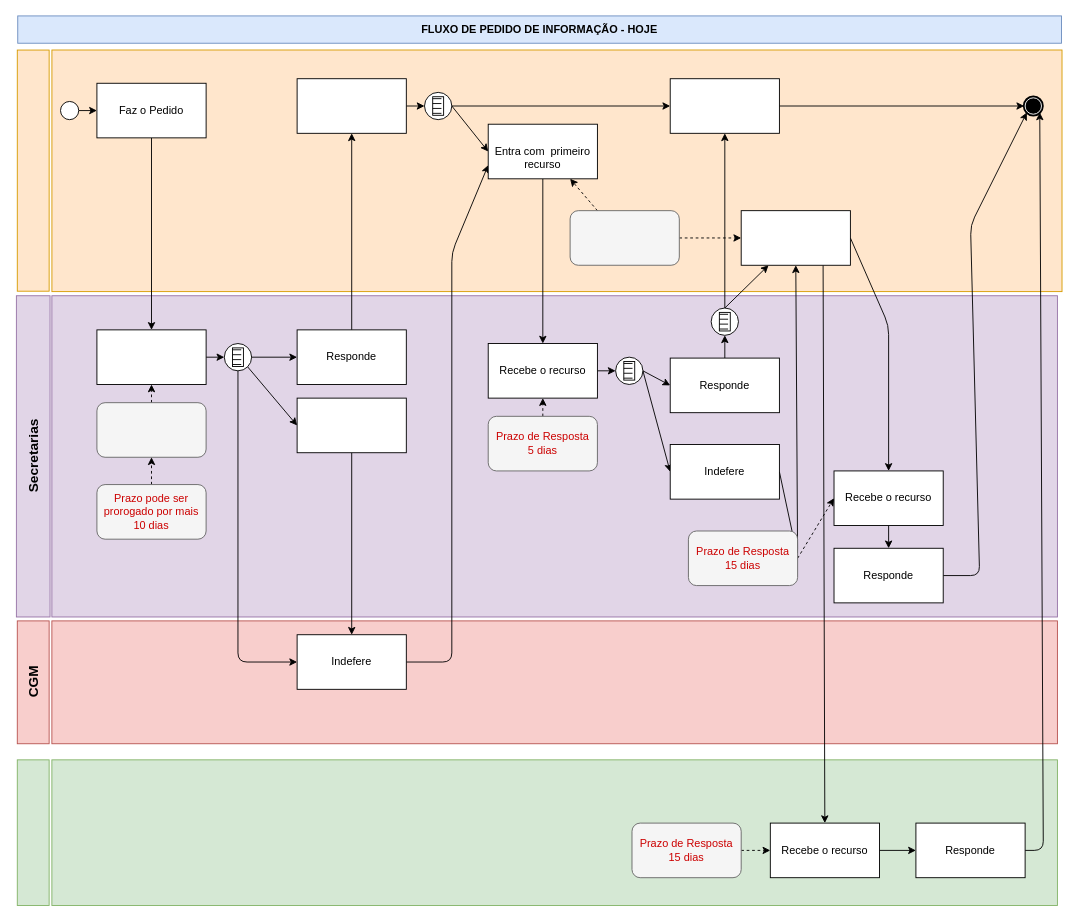
This 1078x922 diagram has some shape labels left out. Here are the shapes that lost their labels. From the top down, the centre of each, then its label:
At point 351,105: "Recebe a resposta".
At point 724,105: "Conformado com a resposta".
At point 32,170: "Usuário".
At point 624,237: "Prazo para entrar com recurso 10 dias".
At point 795,237: "Entra com segundo".
At point 151,356: "Recebe o Pedido".
At point 151,429: "Prazo de Resposta 20 dias".
At point 351,425: "Solicita o Indeferimento".
At point 32,832: "CGAI".
